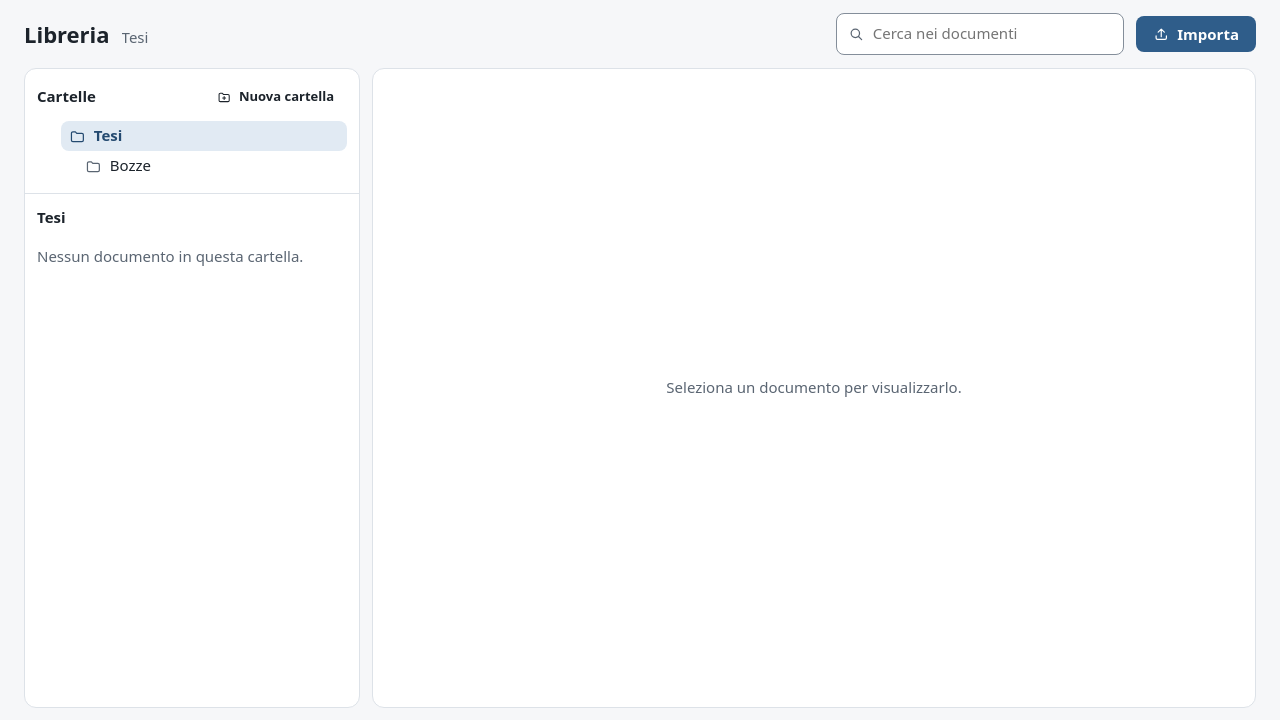
folders › renames the open folder and shows a duplicate name next to the field
Click the button "Bozze": (130,165) [77,151,347,181]
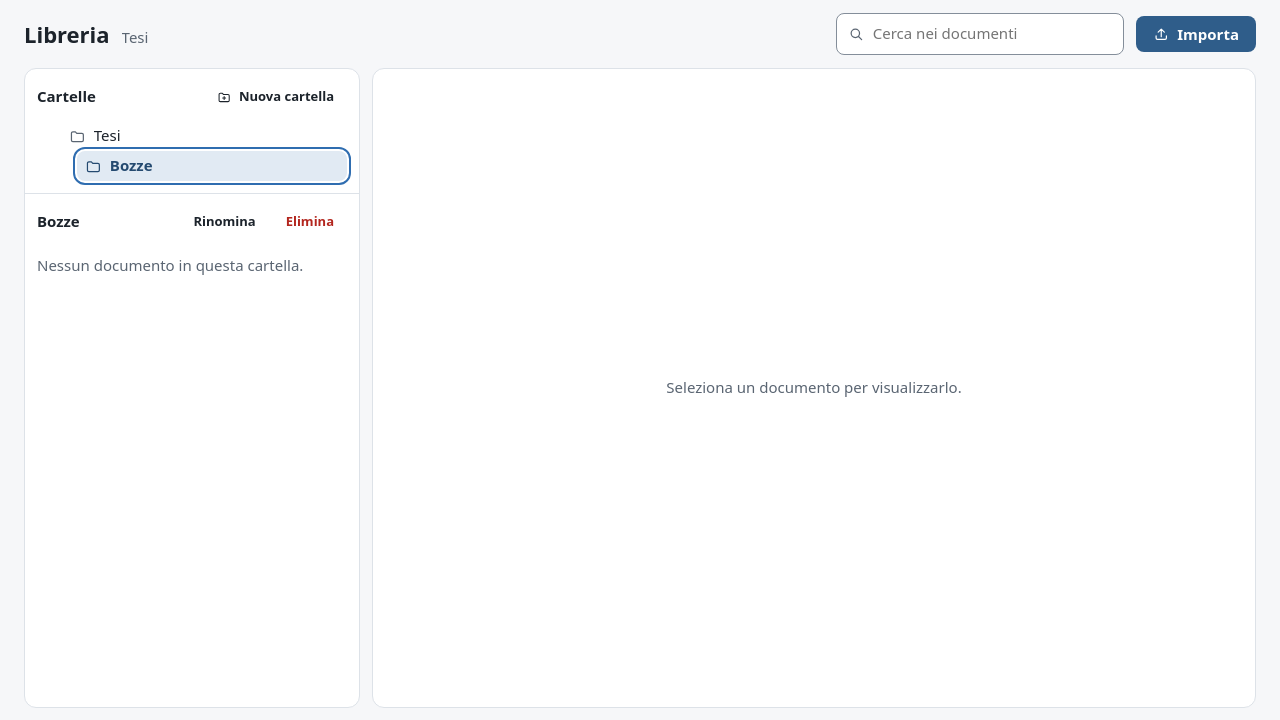
Click the button with aria-label "Rinomina la cartella «Bozze»": (225,222) [180,206,269,238]
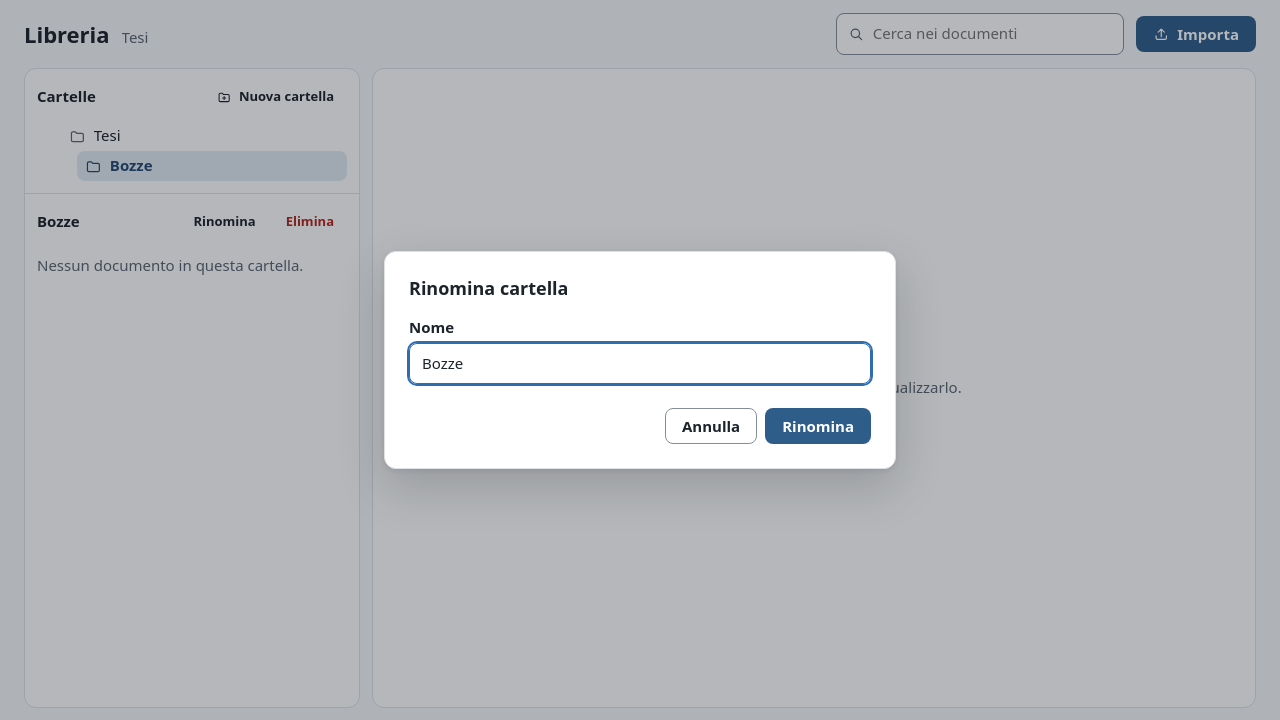
Now the field labelled "Nome" holds "Bozze"
Replace the text in the field labelled "Nome" with "Archivio": (640,364) [409,343,871,384]
Then press Enter
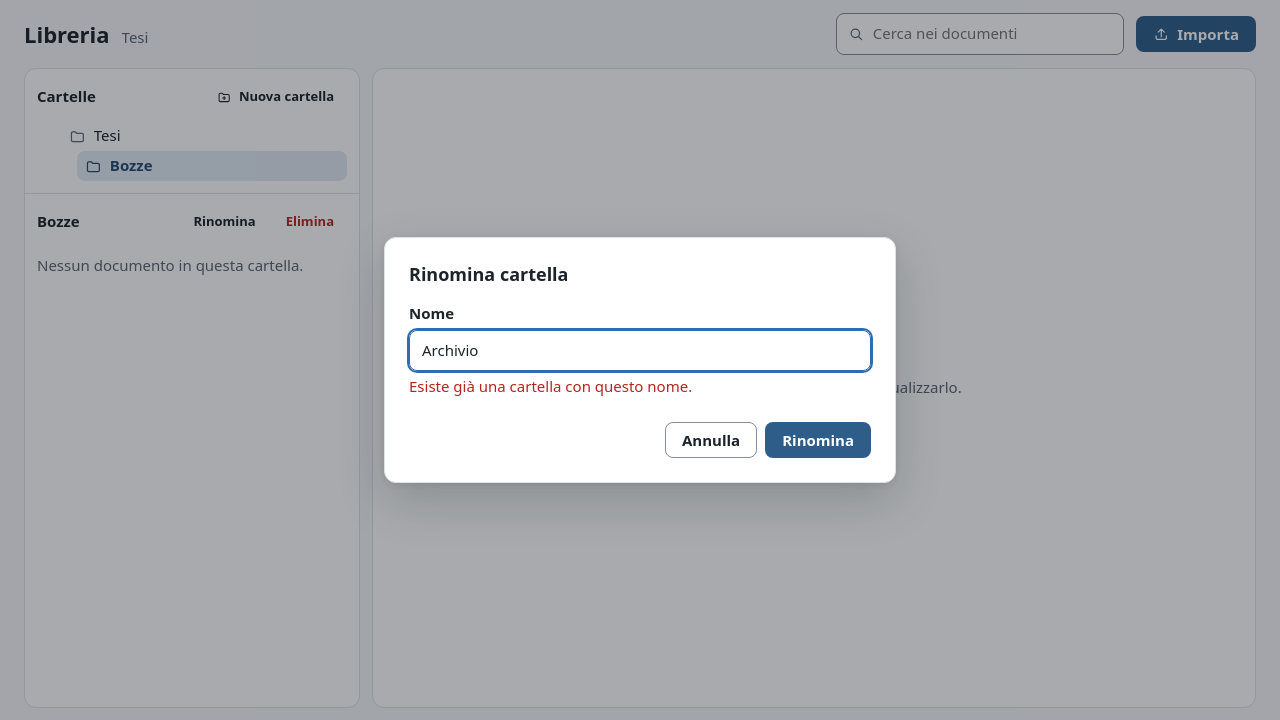
Now the text "Esiste già una cartella con questo nome." is shown, box [409,376,692,396]
Clear the field labelled "Nome": (640,350) [409,330,871,371]
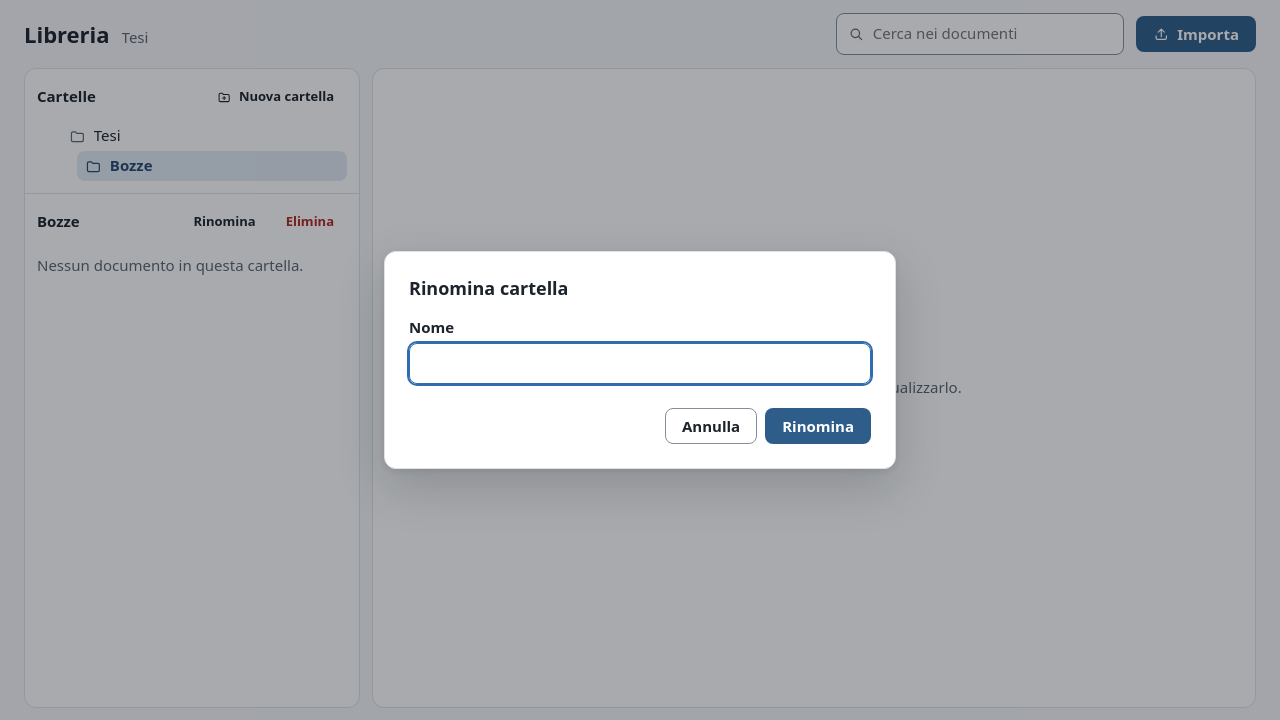
In the field labelled "Nome": (640,364) [409,343,871,384], type "Definitivi"
Then press Enter
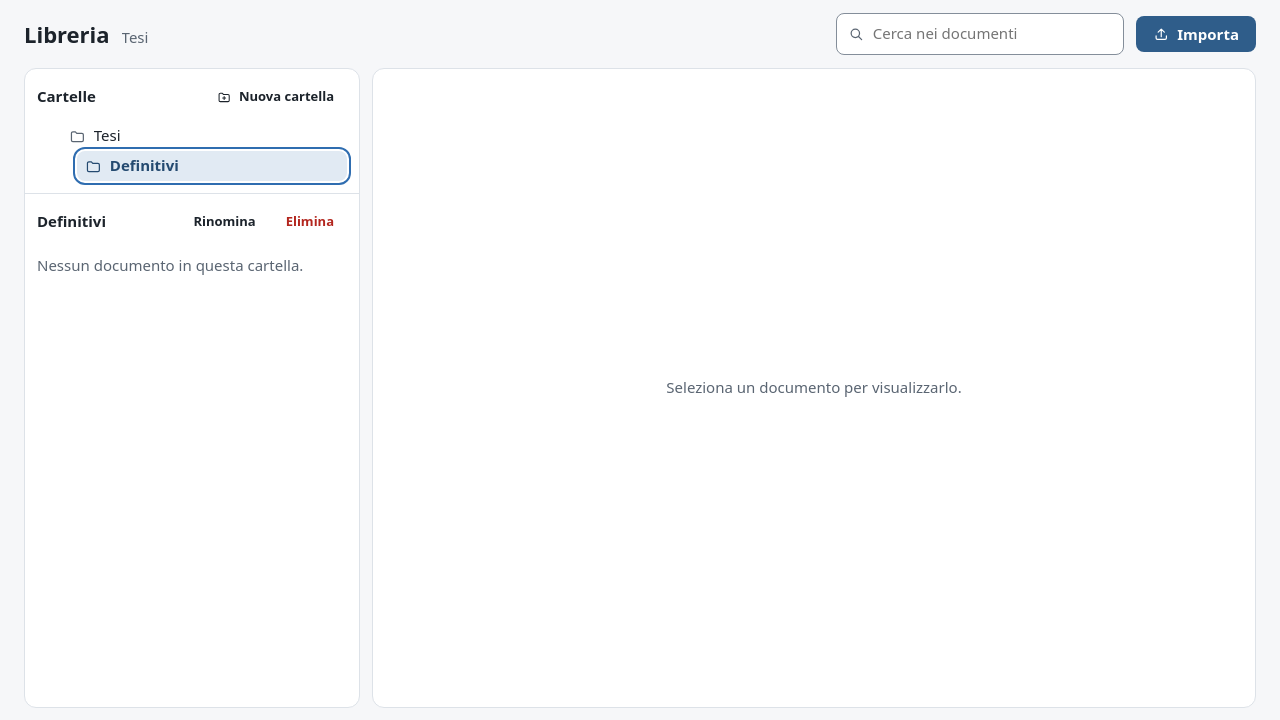
Now the heading "Definitivi" is shown, box [37,211,106,231]
